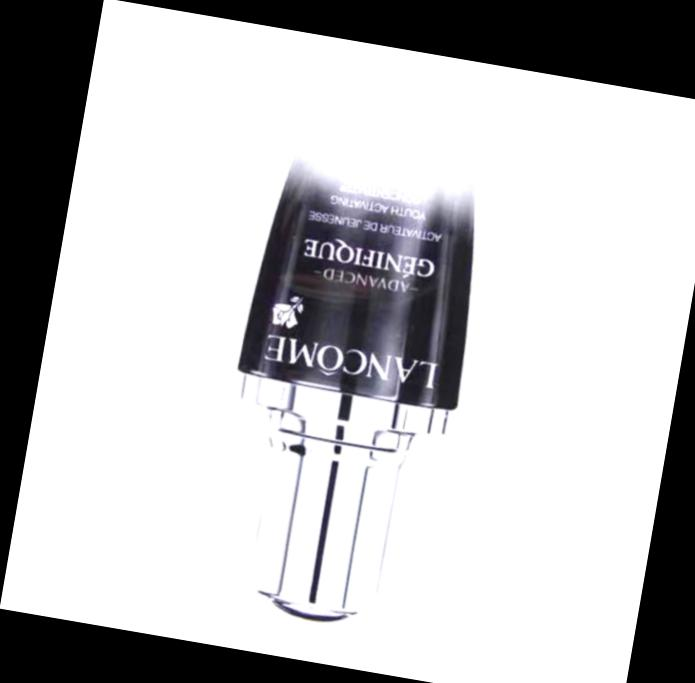cosmetic: (194, 66, 508, 641)
